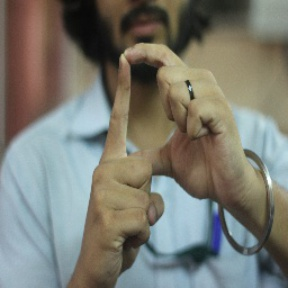D: (94, 35, 227, 190)
